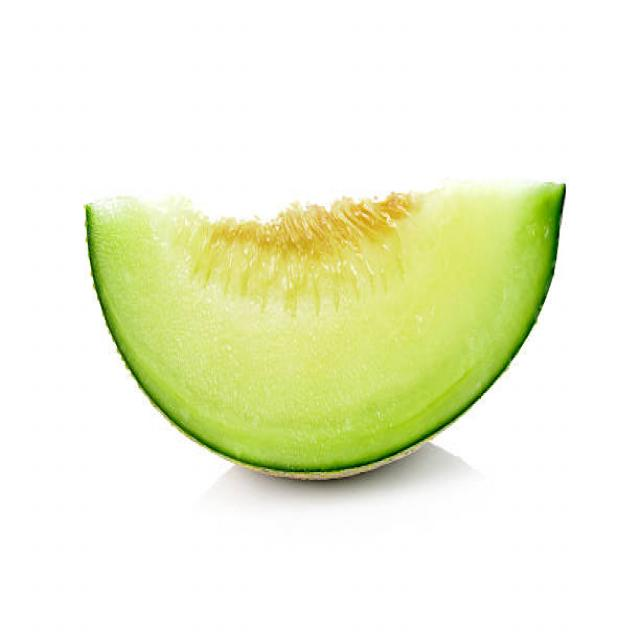melon: (78, 176, 568, 488)
